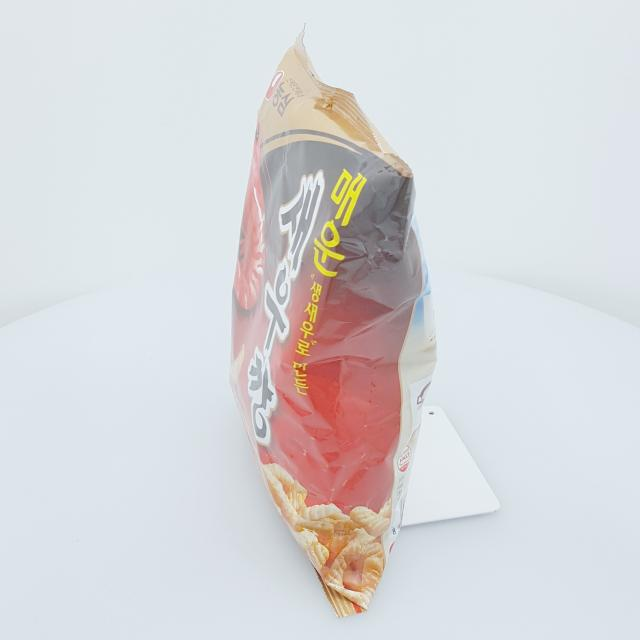-90G: (230, 23, 439, 620)
